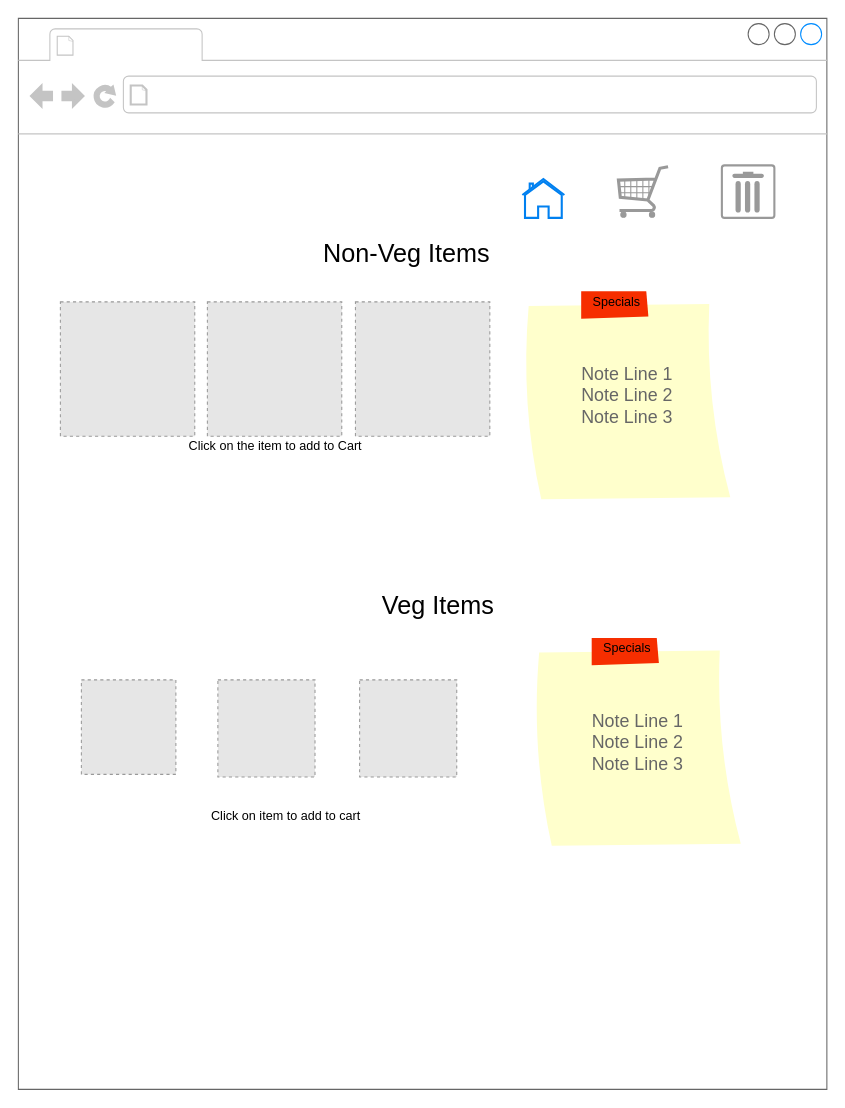
Some shapes in this 845 by 1108 pixel diagram are drawn without their labels. Grey dashed boxes stand in for pictures. Here are the shapes that lost their labels. From the top down, the centre of each, then its label:
At (x=138, y=44): "Menu".
At (x=285, y=94): "https://www.BakedInHeaven/Menu".
